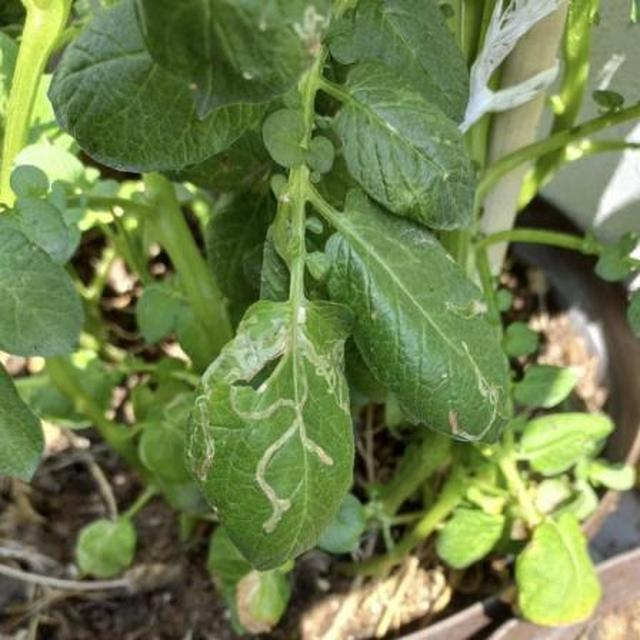Leaf Miner: (238, 378, 596, 617)
